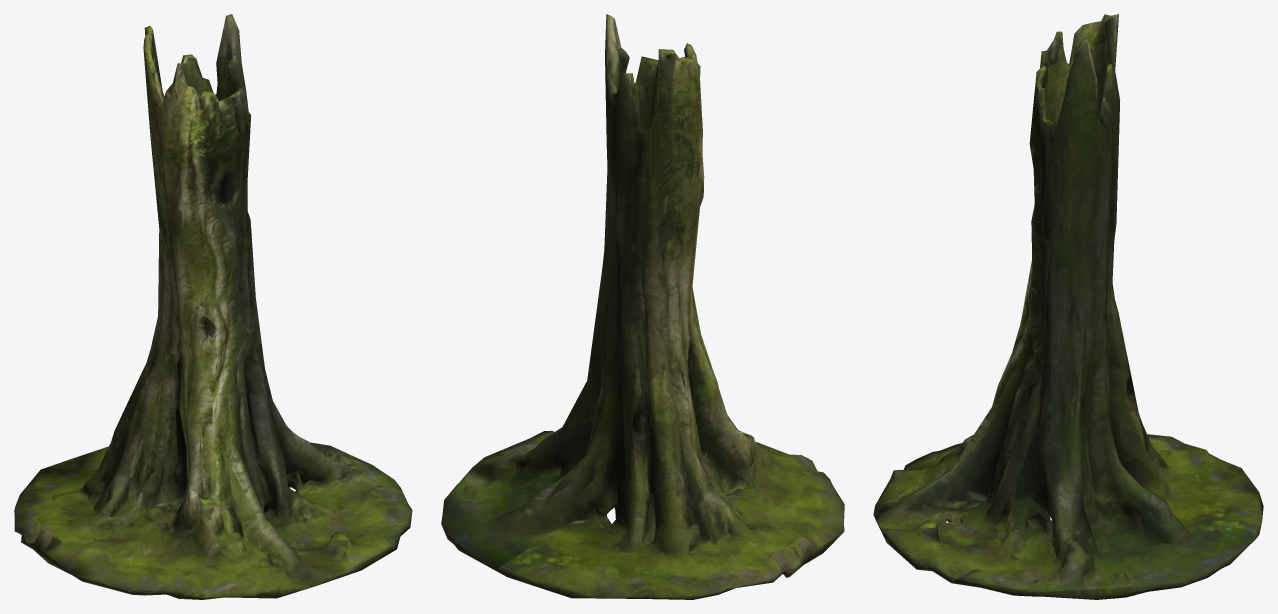
Rendered from snag_mossy.glb.
3 renders of one model, left to right at view 1: azimuth 30°, elevation 25°; view 2: azimuth 150°, elevation 25°; view 3: azimuth 270°, elevation 25°, orthographic. The views are drawn at different scales.
Parts seen in each view (by area): view 1: mossy-tree-trunk-snag_LOW_RES; view 2: mossy-tree-trunk-snag_LOW_RES; view 3: mossy-tree-trunk-snag_LOW_RES.
Part boxes in pixels (x1=…): mossy-tree-trunk-snag_LOW_RES: x1=14, y1=14, x2=412, y2=599; mossy-tree-trunk-snag_LOW_RES: x1=441, y1=14, x2=844, y2=599; mossy-tree-trunk-snag_LOW_RES: x1=873, y1=14, x2=1263, y2=599.
Size of the model in its own units: 1.42 by 1.98 by 1.42.
1 material, 1 textured.
